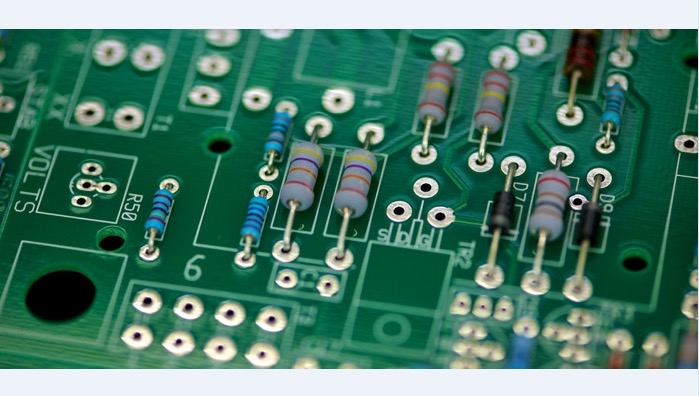resistor: (531, 167, 572, 241), (335, 149, 377, 219), (282, 142, 322, 206), (473, 71, 513, 133), (418, 61, 454, 122), (600, 85, 629, 128), (146, 190, 174, 234), (242, 197, 269, 241), (266, 111, 292, 155)
